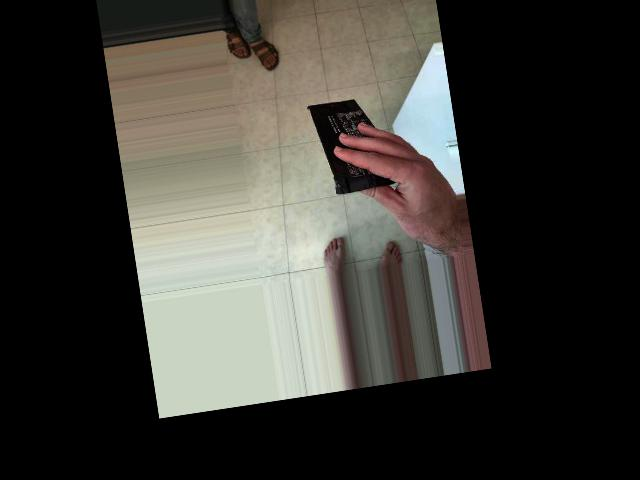chocolate: (228, 68, 346, 169)
